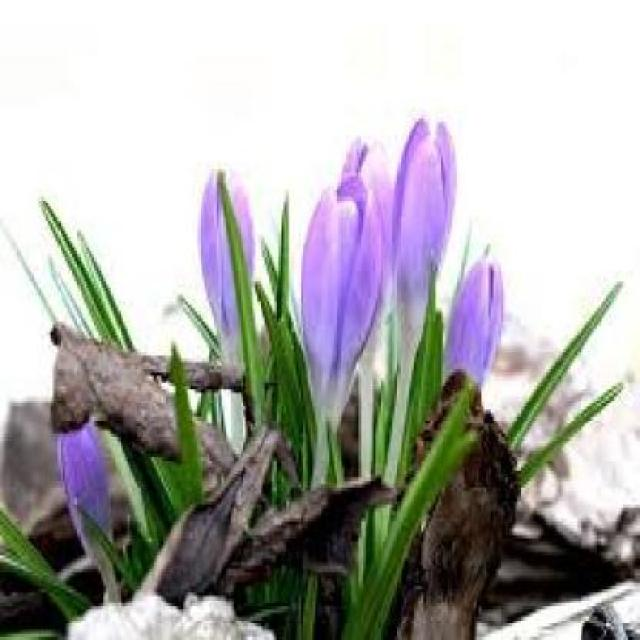saffron closed: (200, 174, 239, 364), (446, 259, 504, 384), (56, 421, 111, 544), (231, 186, 255, 271)
saffron open: (301, 150, 390, 431), (301, 194, 388, 427), (394, 119, 456, 359)
